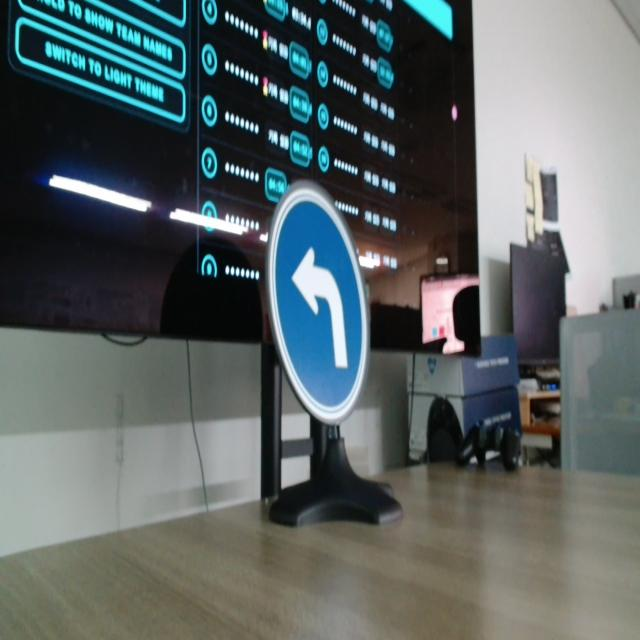left_direction: (265, 177, 371, 426)
